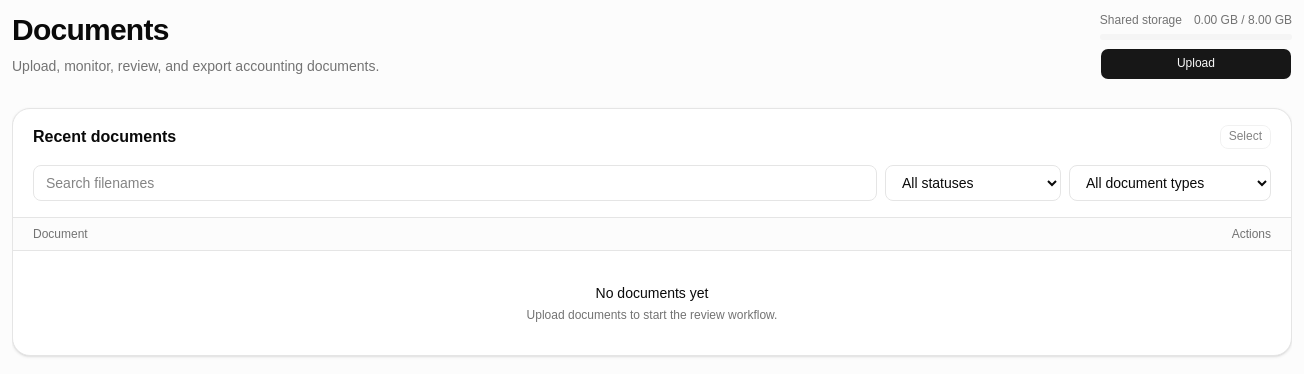
Test: DashboardPage › shows precise adaptive storage usage on hover
The image size is (1304, 374).
Hover over the button with aria-label "Shared document storage details".
mouse_move(1196, 26)  # box [1100,12,1292,40]
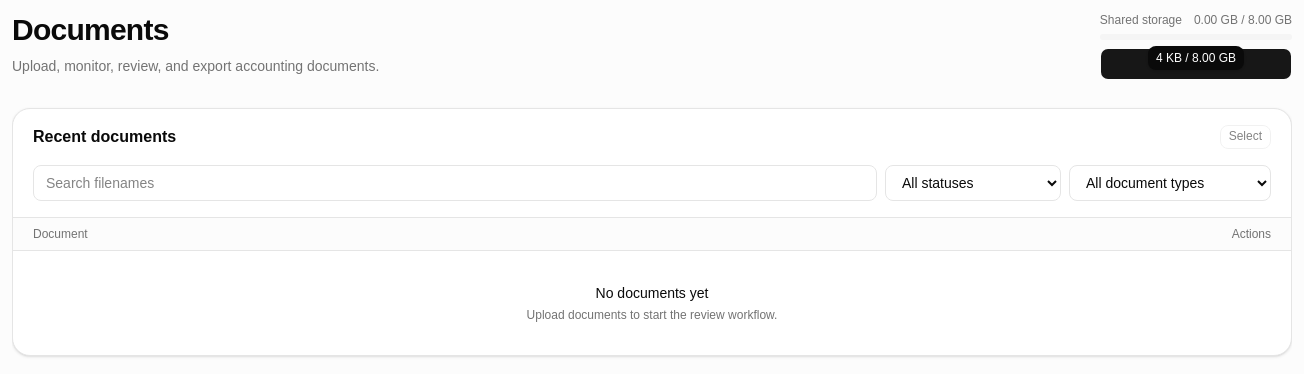
Result: the tooltip reads "4 KB / 8.00 GB" at [1148,46,1244,70]
